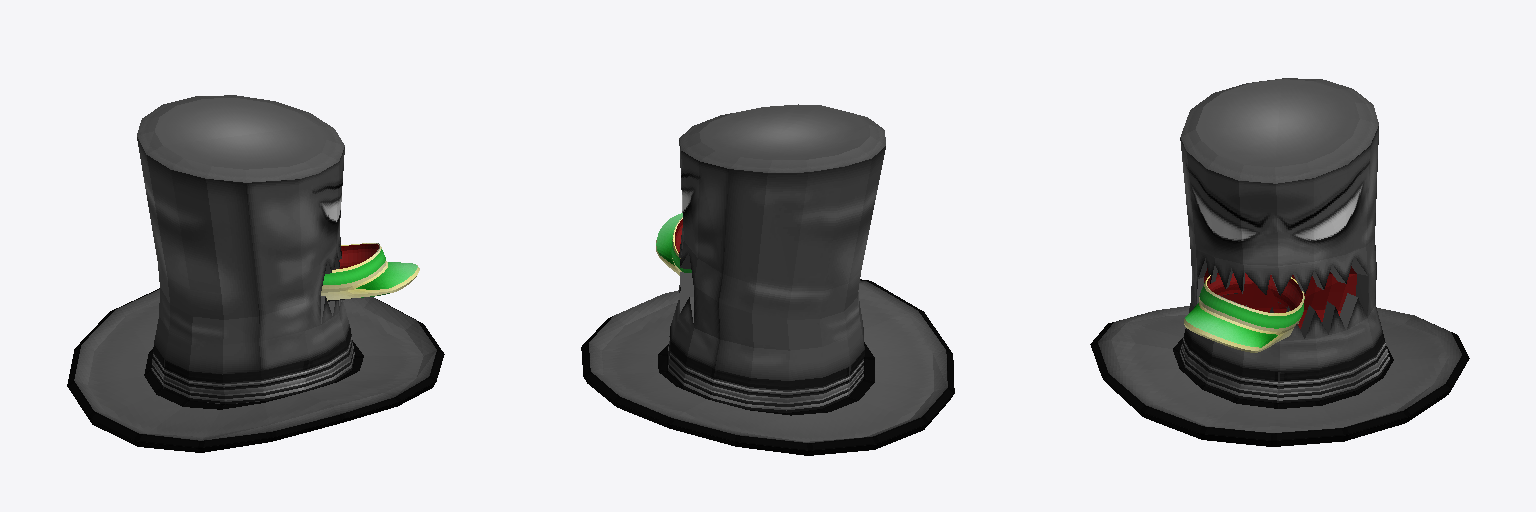
The picture shows the model from 3 angles: view 1: azimuth 30°, elevation 25°; view 2: azimuth 150°, elevation 25°; view 3: azimuth 270°, elevation 25°; orthographic projection.
Parts seen in each view (by area): view 1: Hateatinghat1; view 2: Hateatinghat1; view 3: Hateatinghat1.
Part boxes in pixels (left/top/right/bottom): Hateatinghat1: left=67, top=95, right=444, bottom=452; Hateatinghat1: left=581, top=104, right=954, bottom=455; Hateatinghat1: left=1090, top=78, right=1469, bottom=446.
Bounding box in the file's own units: 2.38 × 1.86 × 2.39.
1 materials, 1 textured.